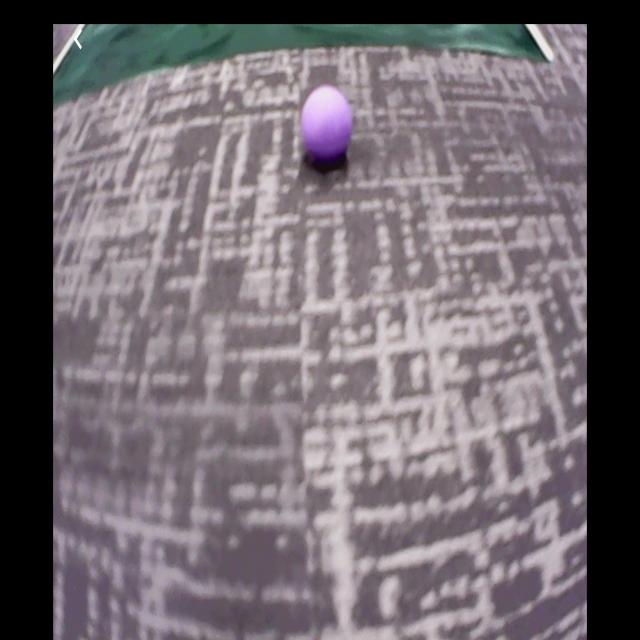ball: (303, 88, 351, 156)
